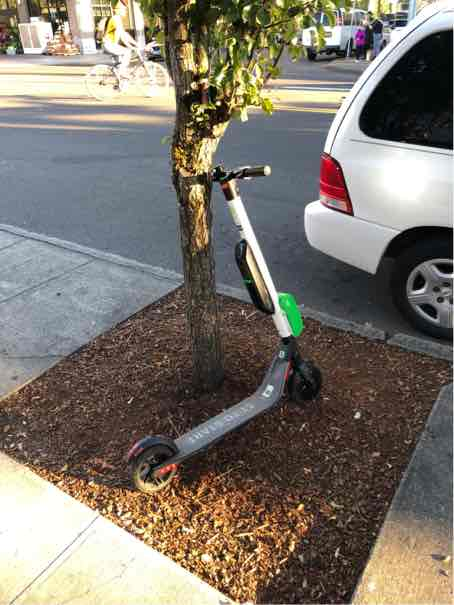scooter: (121, 150, 325, 493)
